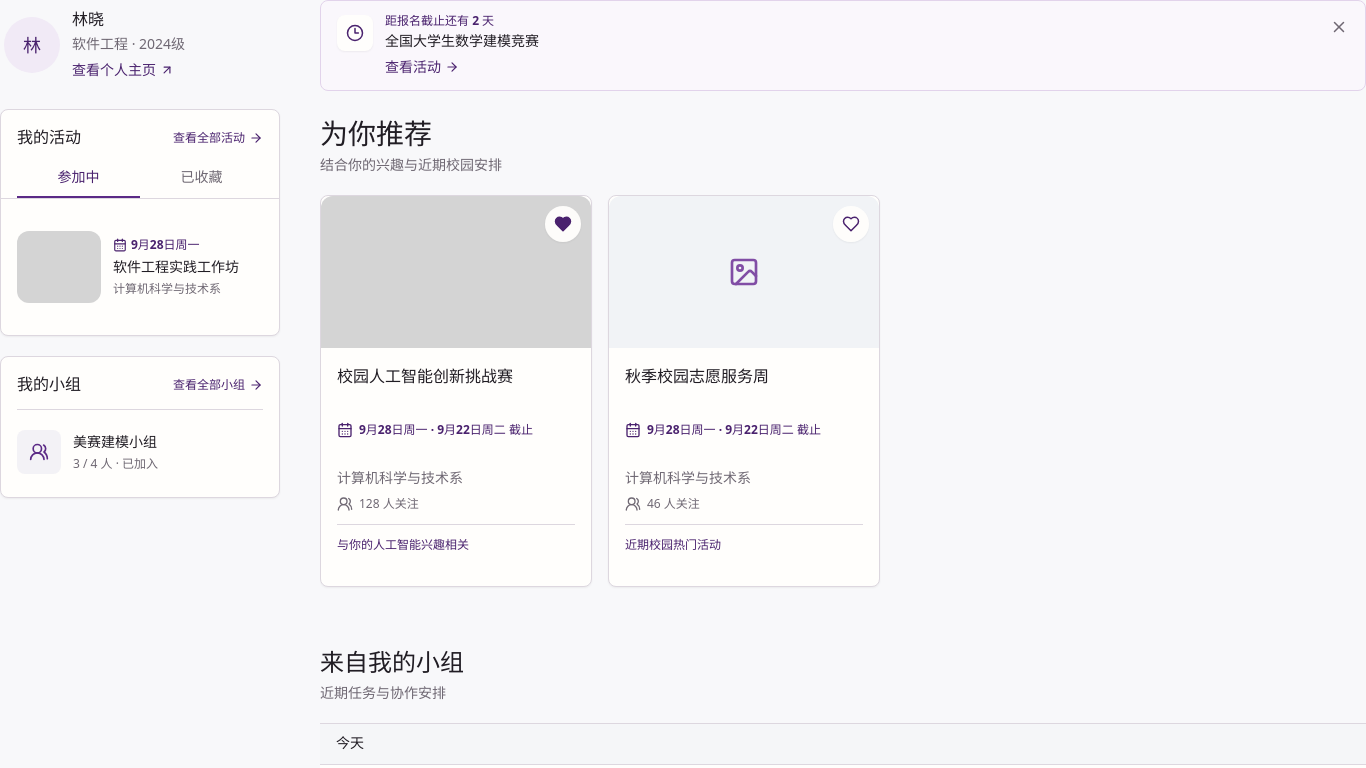
Test: Home › keeps attending events visible when saved events are degraded
expect the text "软件工程实践工作坊" is shown: met, box [113,257,239,276]
Click the tab "已收藏" at (202, 178), box [140,158,263,198]
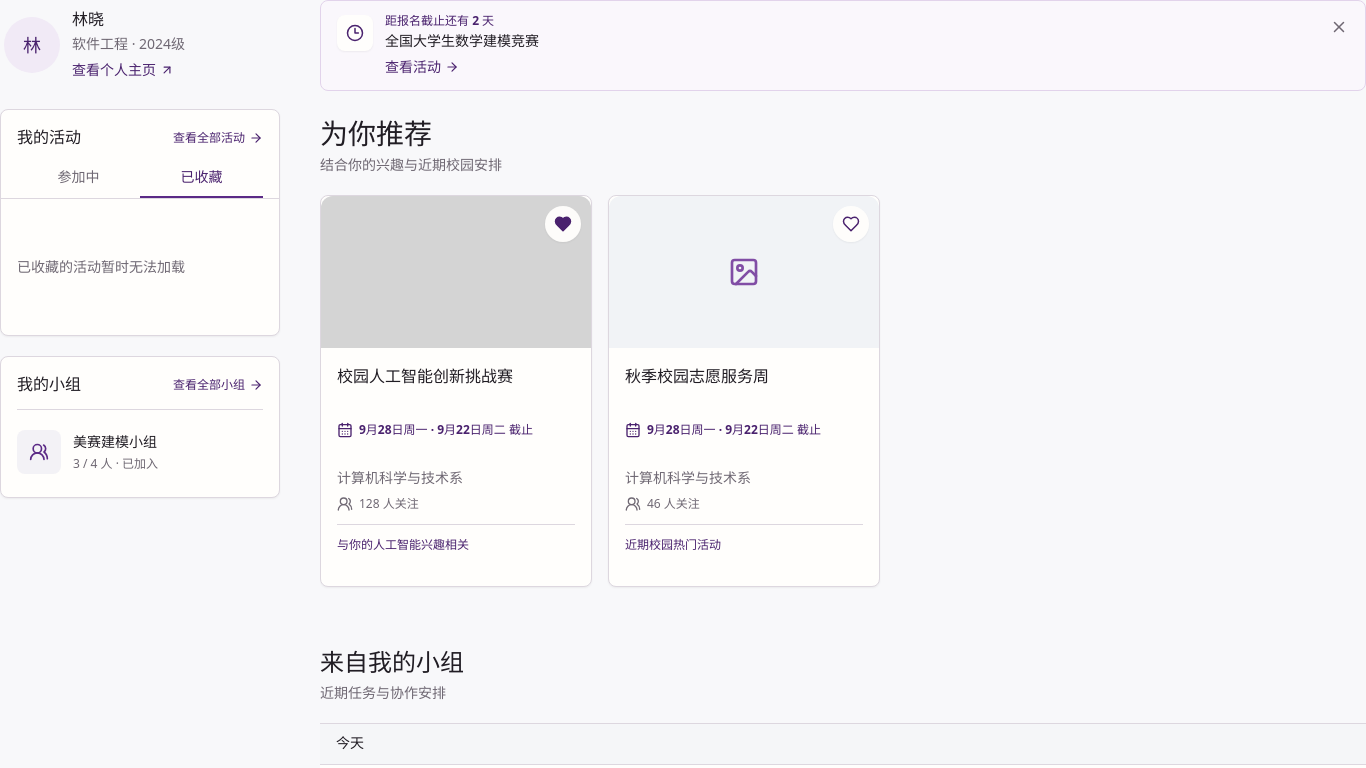
expect the text "已收藏的活动暂时无法加载" is shown: met, box [17,257,185,277]
